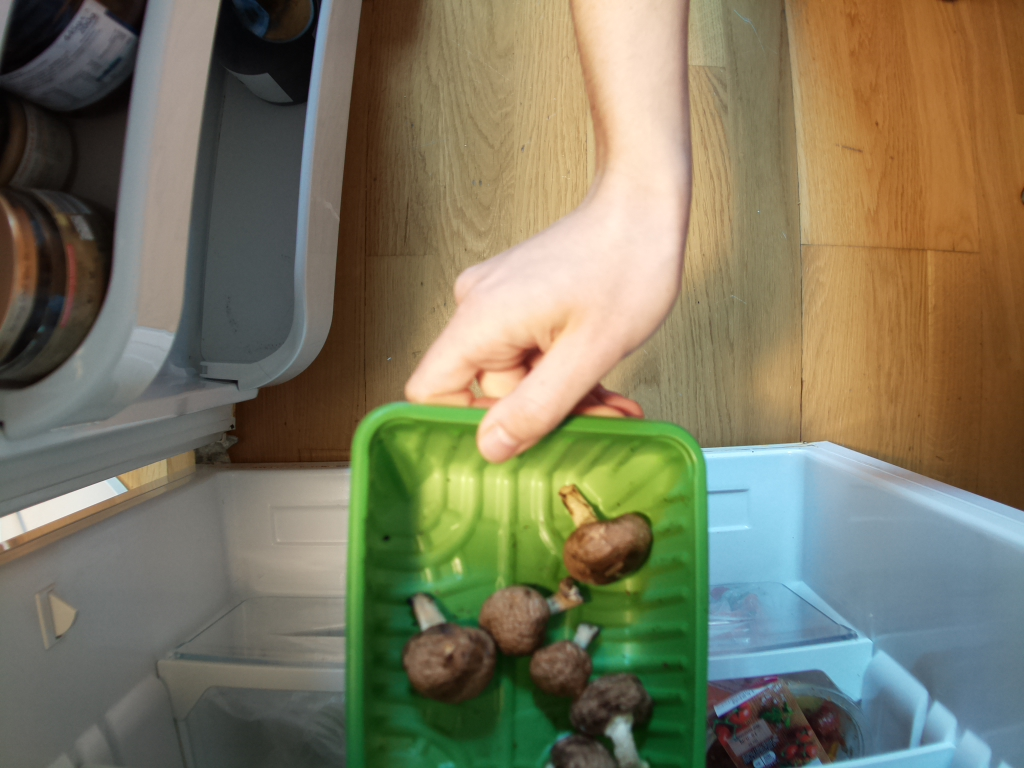mushrooms-bad: (339, 402, 711, 768)
